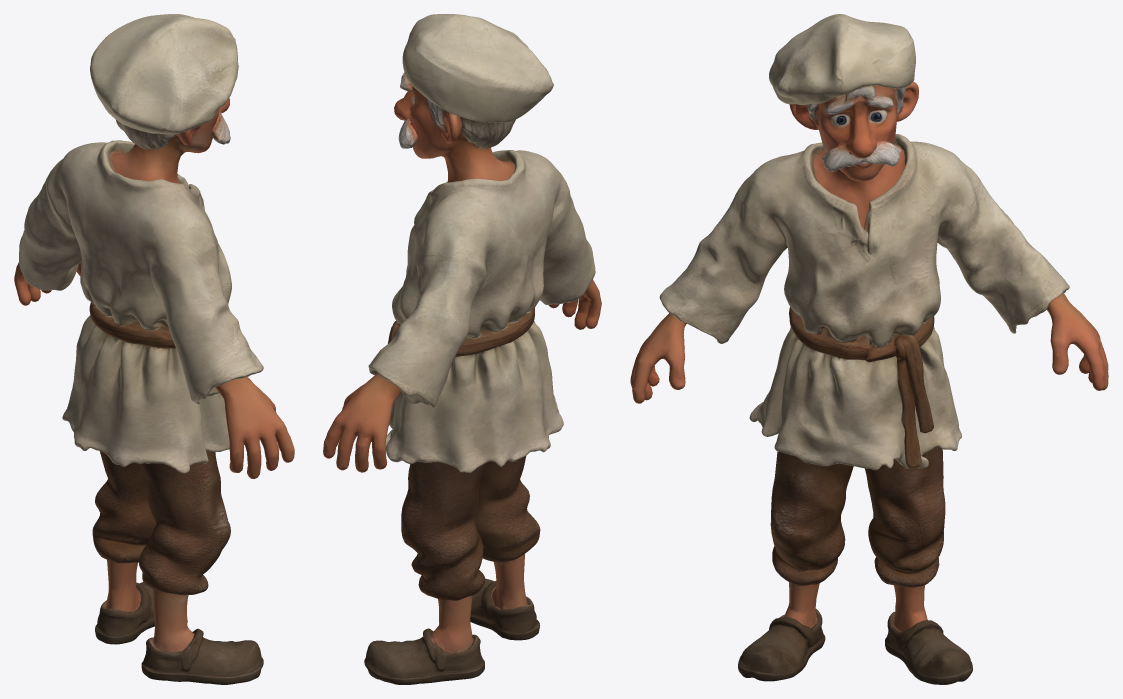
The picture shows the model from 3 angles, left to right: view 1: azimuth 30°, elevation 25°; view 2: azimuth 150°, elevation 25°; view 3: azimuth 270°, elevation 25°; orthographic projection. The views are drawn at different scales.
Parts seen in each view (by area): view 1: tripo_node_7f27dddd-91c4-414c-be32-d0e4d2a783ea; view 2: tripo_node_7f27dddd-91c4-414c-be32-d0e4d2a783ea; view 3: tripo_node_7f27dddd-91c4-414c-be32-d0e4d2a783ea.
Boxes of the visible parts, x1=… form: tripo_node_7f27dddd-91c4-414c-be32-d0e4d2a783ea: x1=14, y1=14, x2=294, y2=684; tripo_node_7f27dddd-91c4-414c-be32-d0e4d2a783ea: x1=323, y1=14, x2=601, y2=684; tripo_node_7f27dddd-91c4-414c-be32-d0e4d2a783ea: x1=630, y1=14, x2=1108, y2=684.
Size of the model in its own units: 0.2682 by 1 by 0.6708.
1 material, 1 textured.
